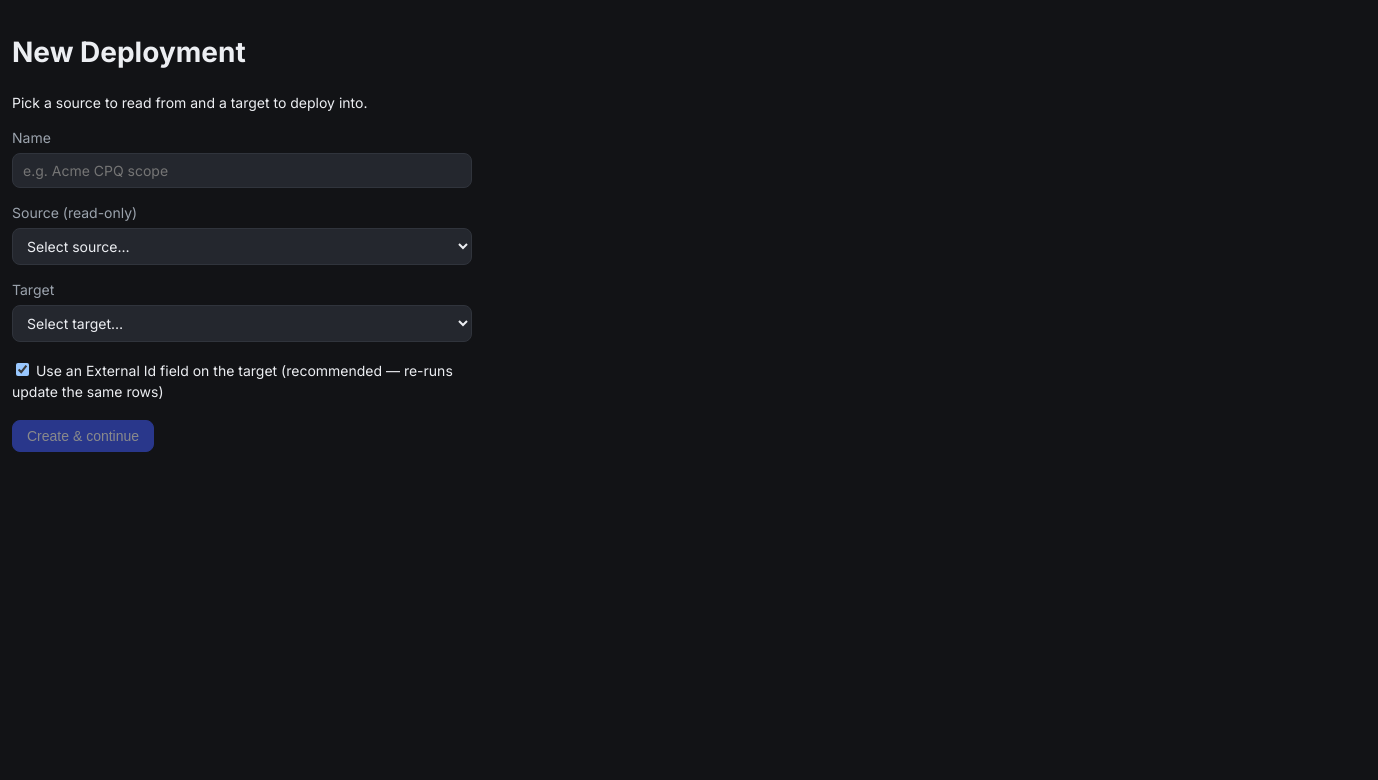
NewDeploymentPage › blocks same-org and creates + navigates otherwise
Expected: the text "Source (read-only)" is shown, [12, 204, 137, 220]
Type "My Deploy" into the field with placeholder "e.g. Acme CPQ scope" at x=242, y=170, box [12, 152, 472, 188]
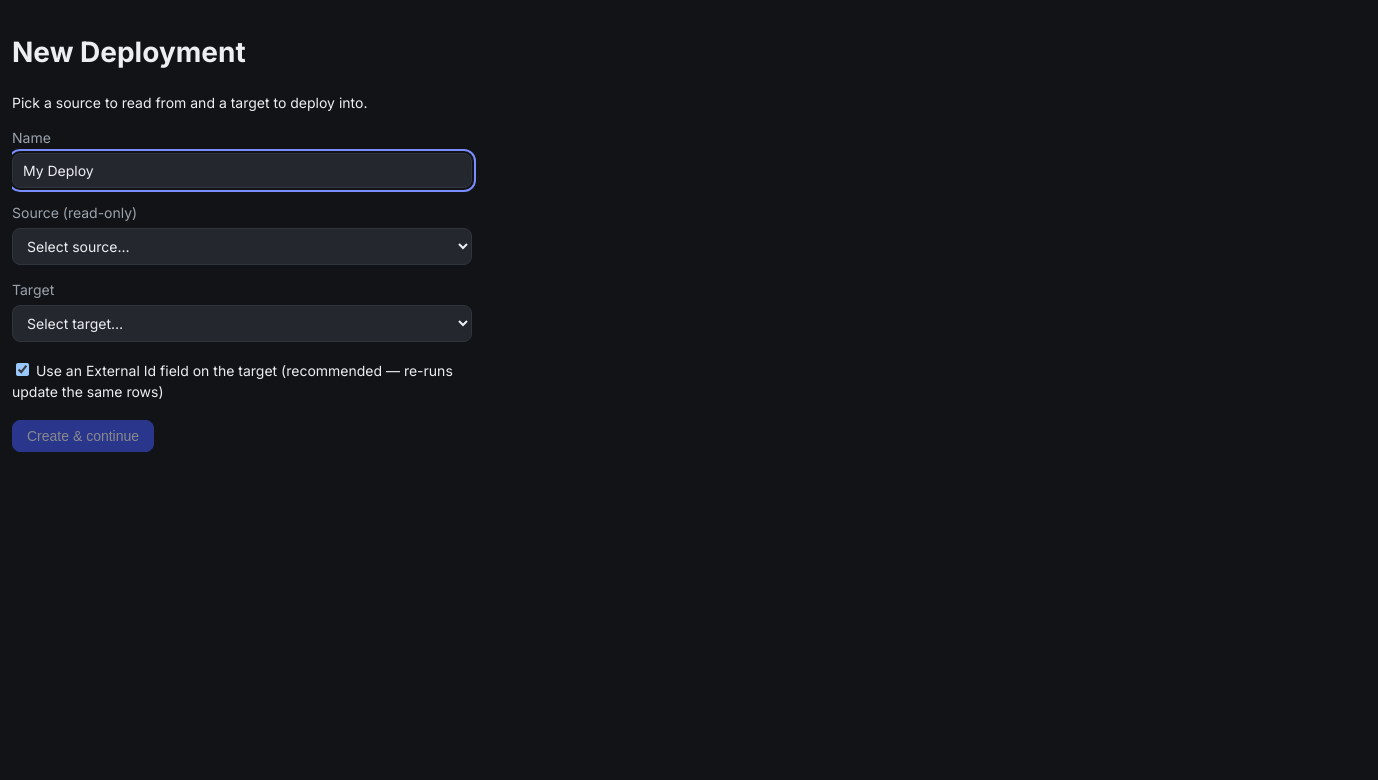
Select "scratch (will become Source)" in the dropdown labelled "Source (read-only)" at x=242, y=246, box [12, 228, 472, 264]
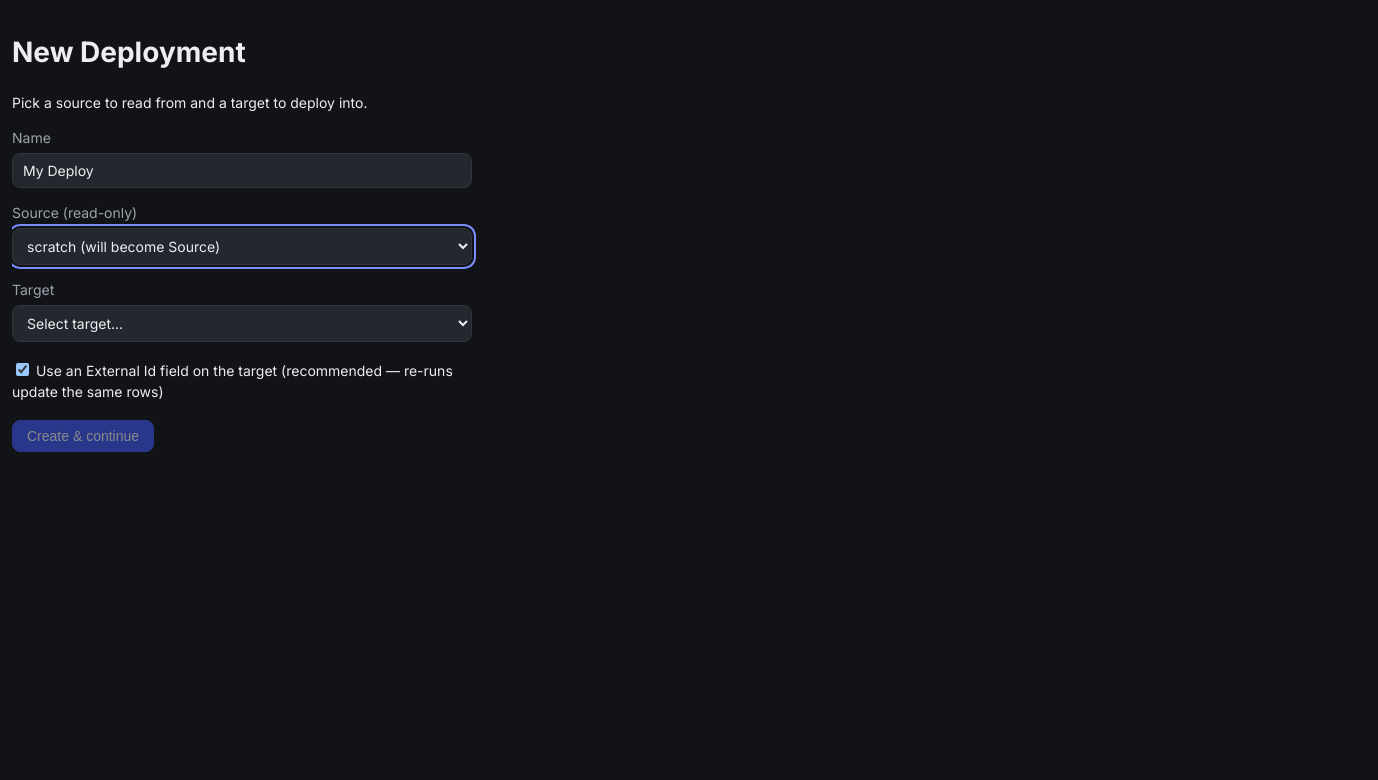
Select "scratch (will become Target)" in the dropdown labelled "Target" at x=242, y=323, box [12, 304, 472, 342]
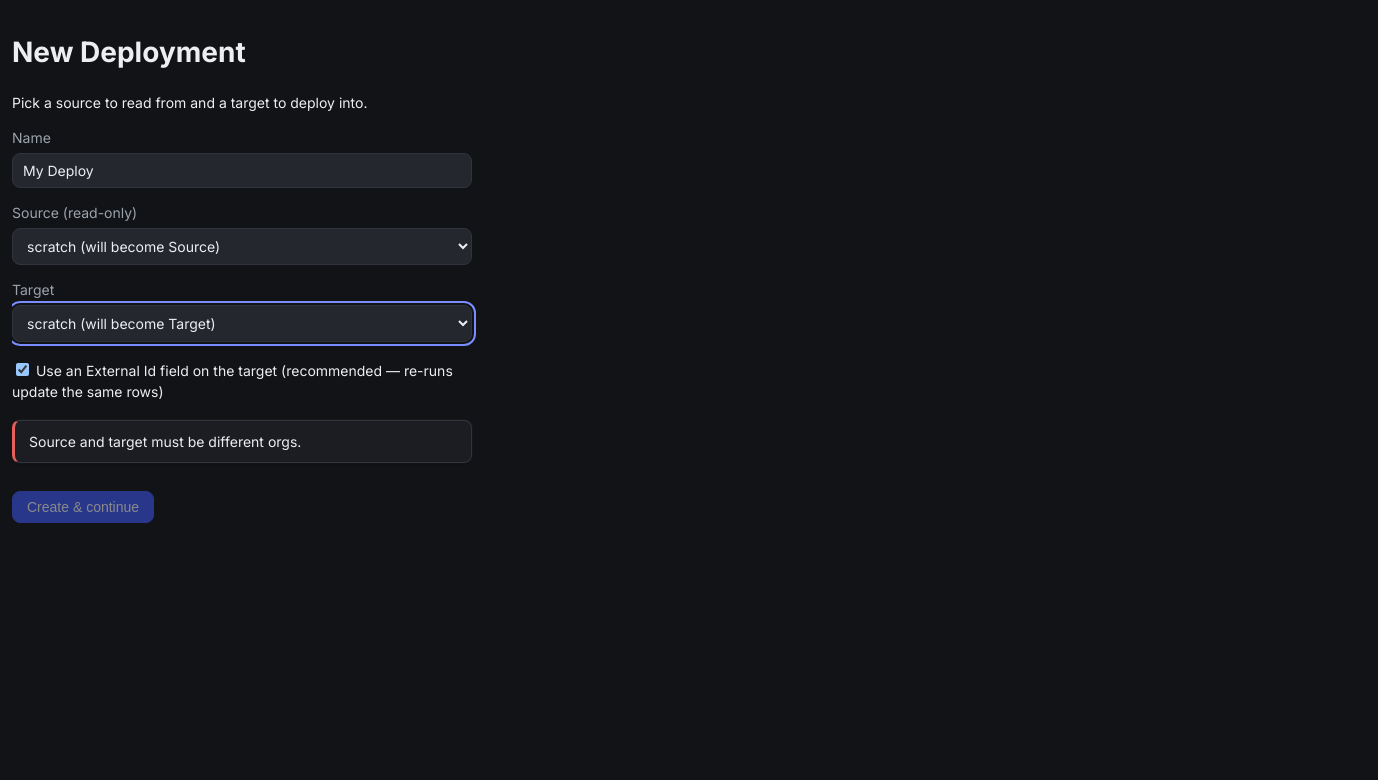
Expected: the button "Create & continue" is disabled, [12, 490, 154, 522]
Now the text "Source and target must be different orgs." is shown, box [12, 420, 472, 462]
Select "sb1" in the dropdown labelled "Target" at x=242, y=323, box [12, 304, 472, 342]
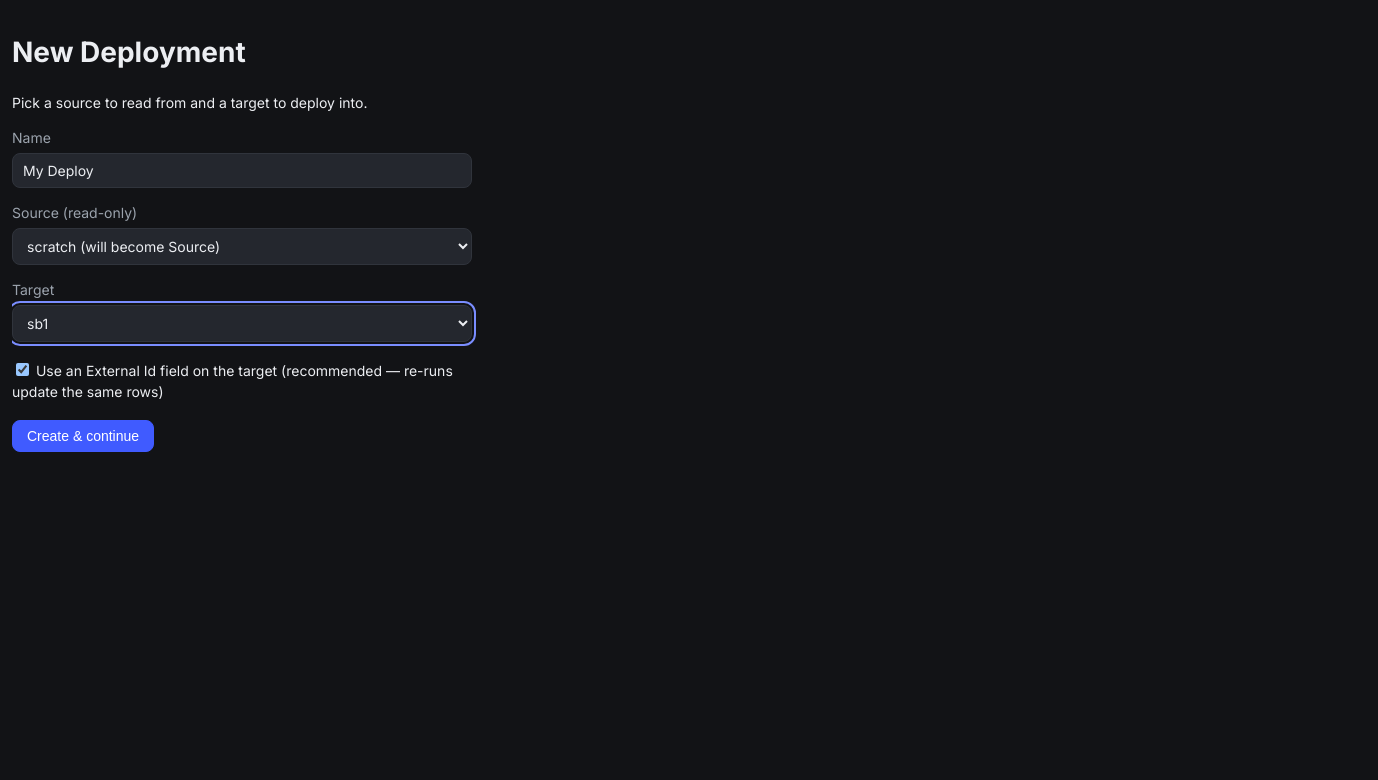
Now the button "Create & continue" is enabled
Click the button "Create & continue" at x=83, y=436, box [12, 420, 154, 452]
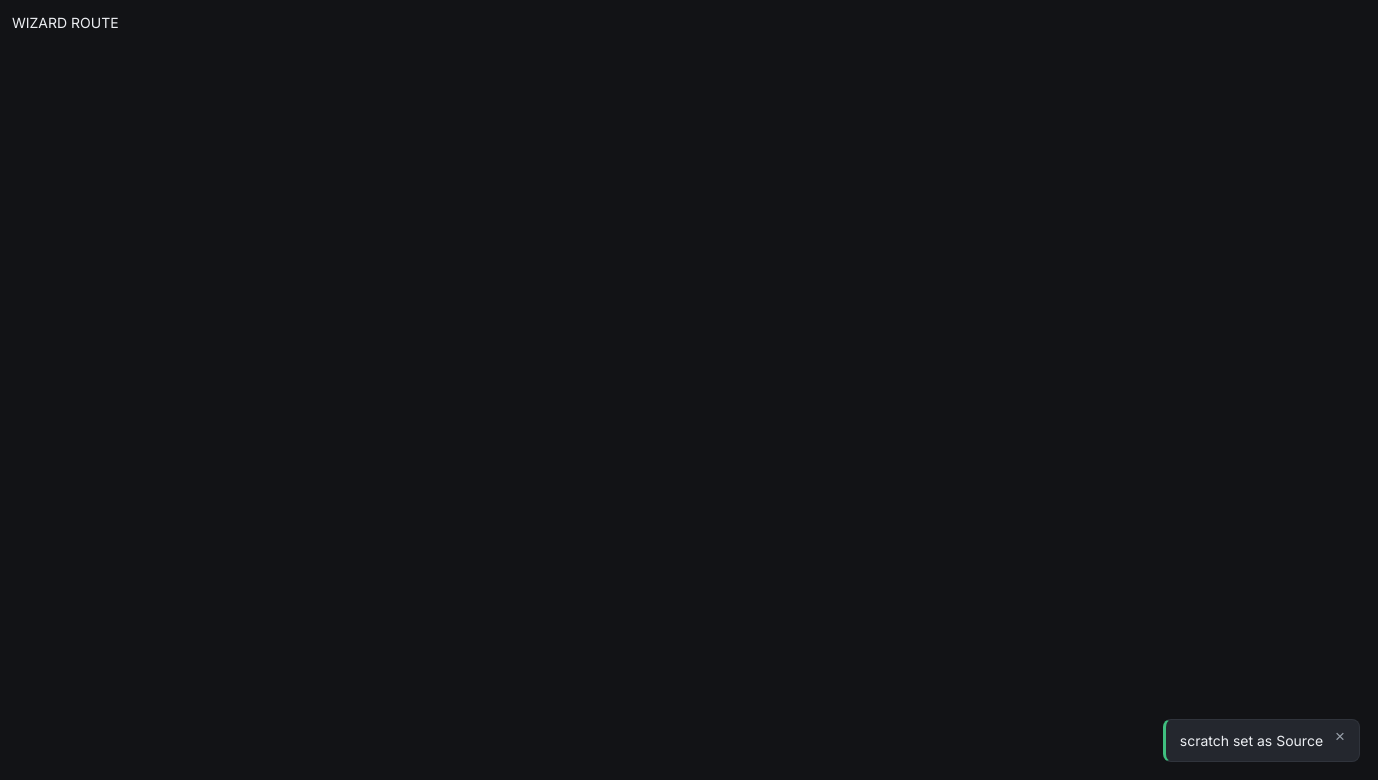
Now the text "WIZARD ROUTE" is shown, box [12, 14, 119, 31]
